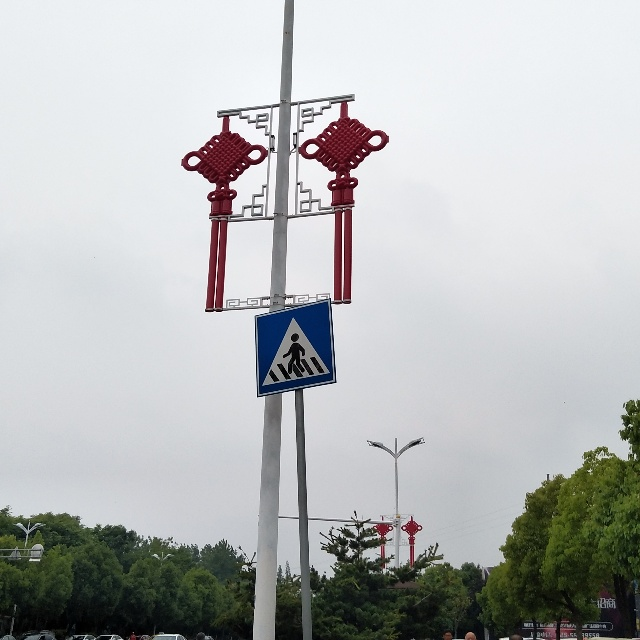crosswalk: (254, 299, 338, 398)
